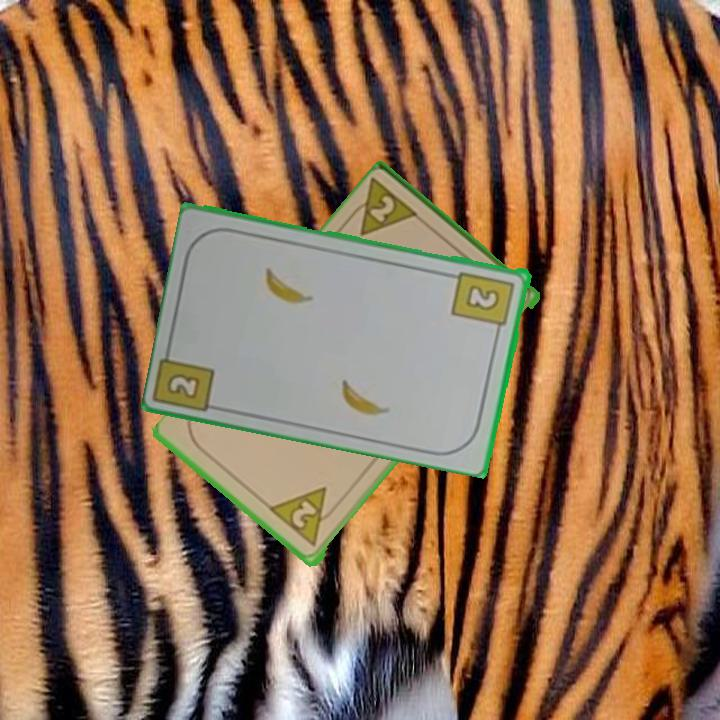2b: (449, 267, 518, 337), (163, 369, 204, 402)
2p: (341, 176, 424, 240), (267, 483, 343, 552)
